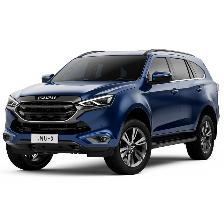NON-EV: (4, 46, 221, 177)
